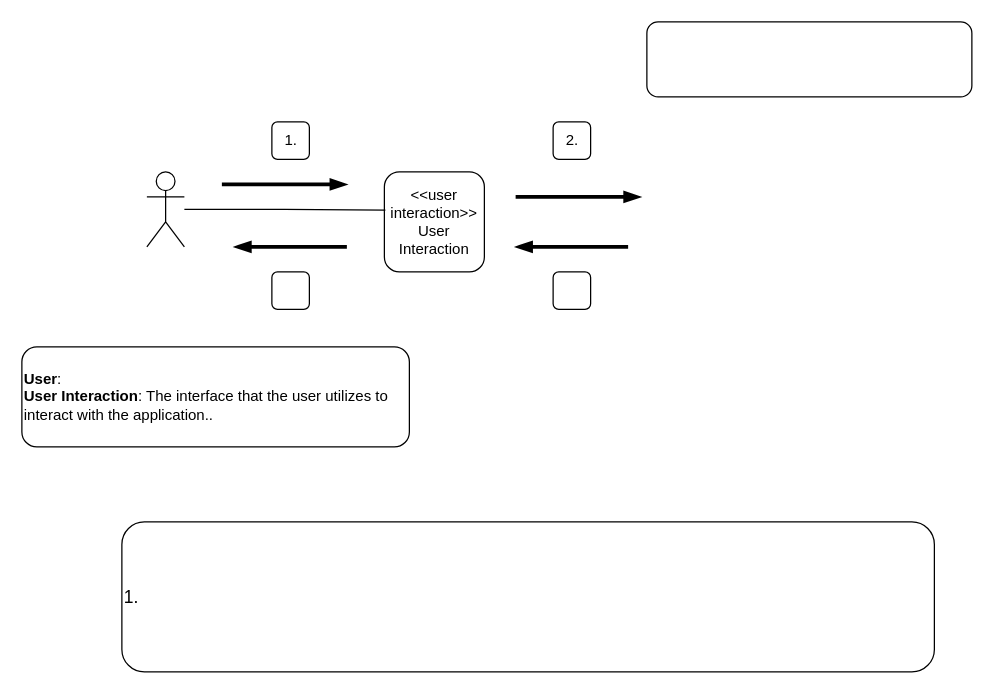
Image size: 994x694. Some labels were removed from this diagram. The box of each missing label's shape, as (x1, y1, x2, y2) in pixels:
Interaction Diagram: (646, 21, 972, 97)
User: (146, 171, 184, 247)
